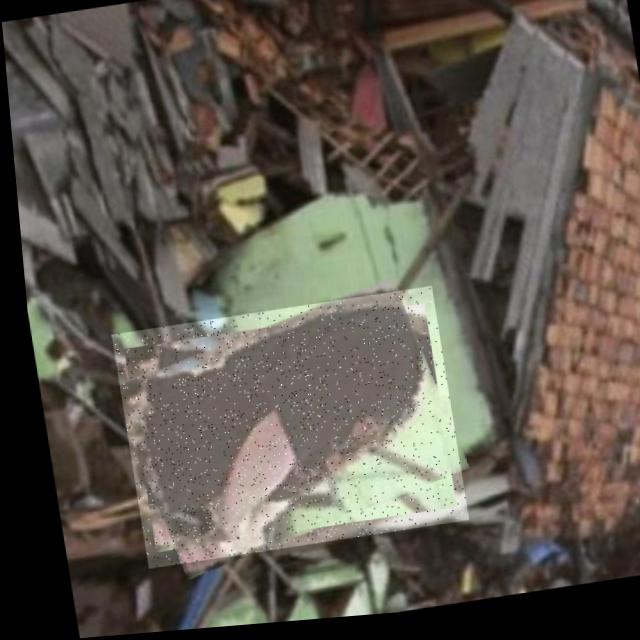Person in Rubble: (102, 292, 459, 571)
